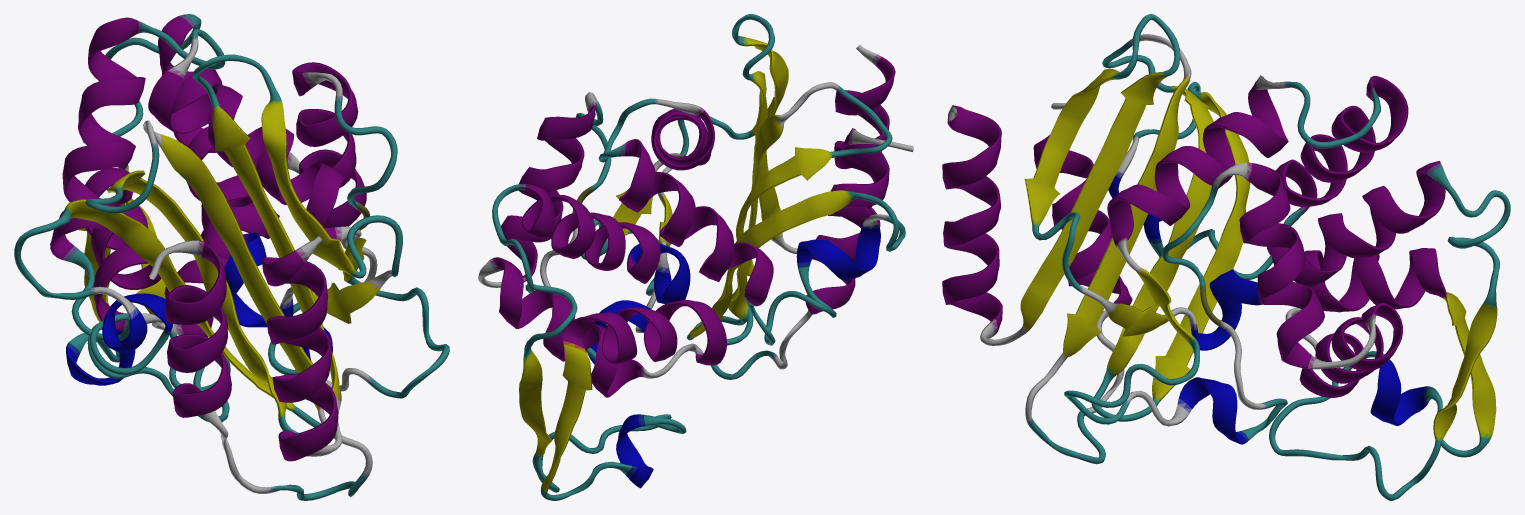
File: animate.0031.obj
3 views of the same model, side by side, from view 1: azimuth 30°, elevation 25°; view 2: azimuth 150°, elevation 25°; view 3: azimuth 270°, elevation 25° (orthographic). The views are drawn at different scales.
Parts seen in each view (by area): view 1: vmd_mol0_rep0; view 2: vmd_mol0_rep0; view 3: vmd_mol0_rep0.
Part boxes in pixels (x1,y1,x2,y2): vmd_mol0_rep0: (14, 14, 449, 500); vmd_mol0_rep0: (478, 14, 913, 500); vmd_mol0_rep0: (942, 14, 1510, 500).
Bounding box in the file's own units: 1.01 × 1.12 × 1.32.
